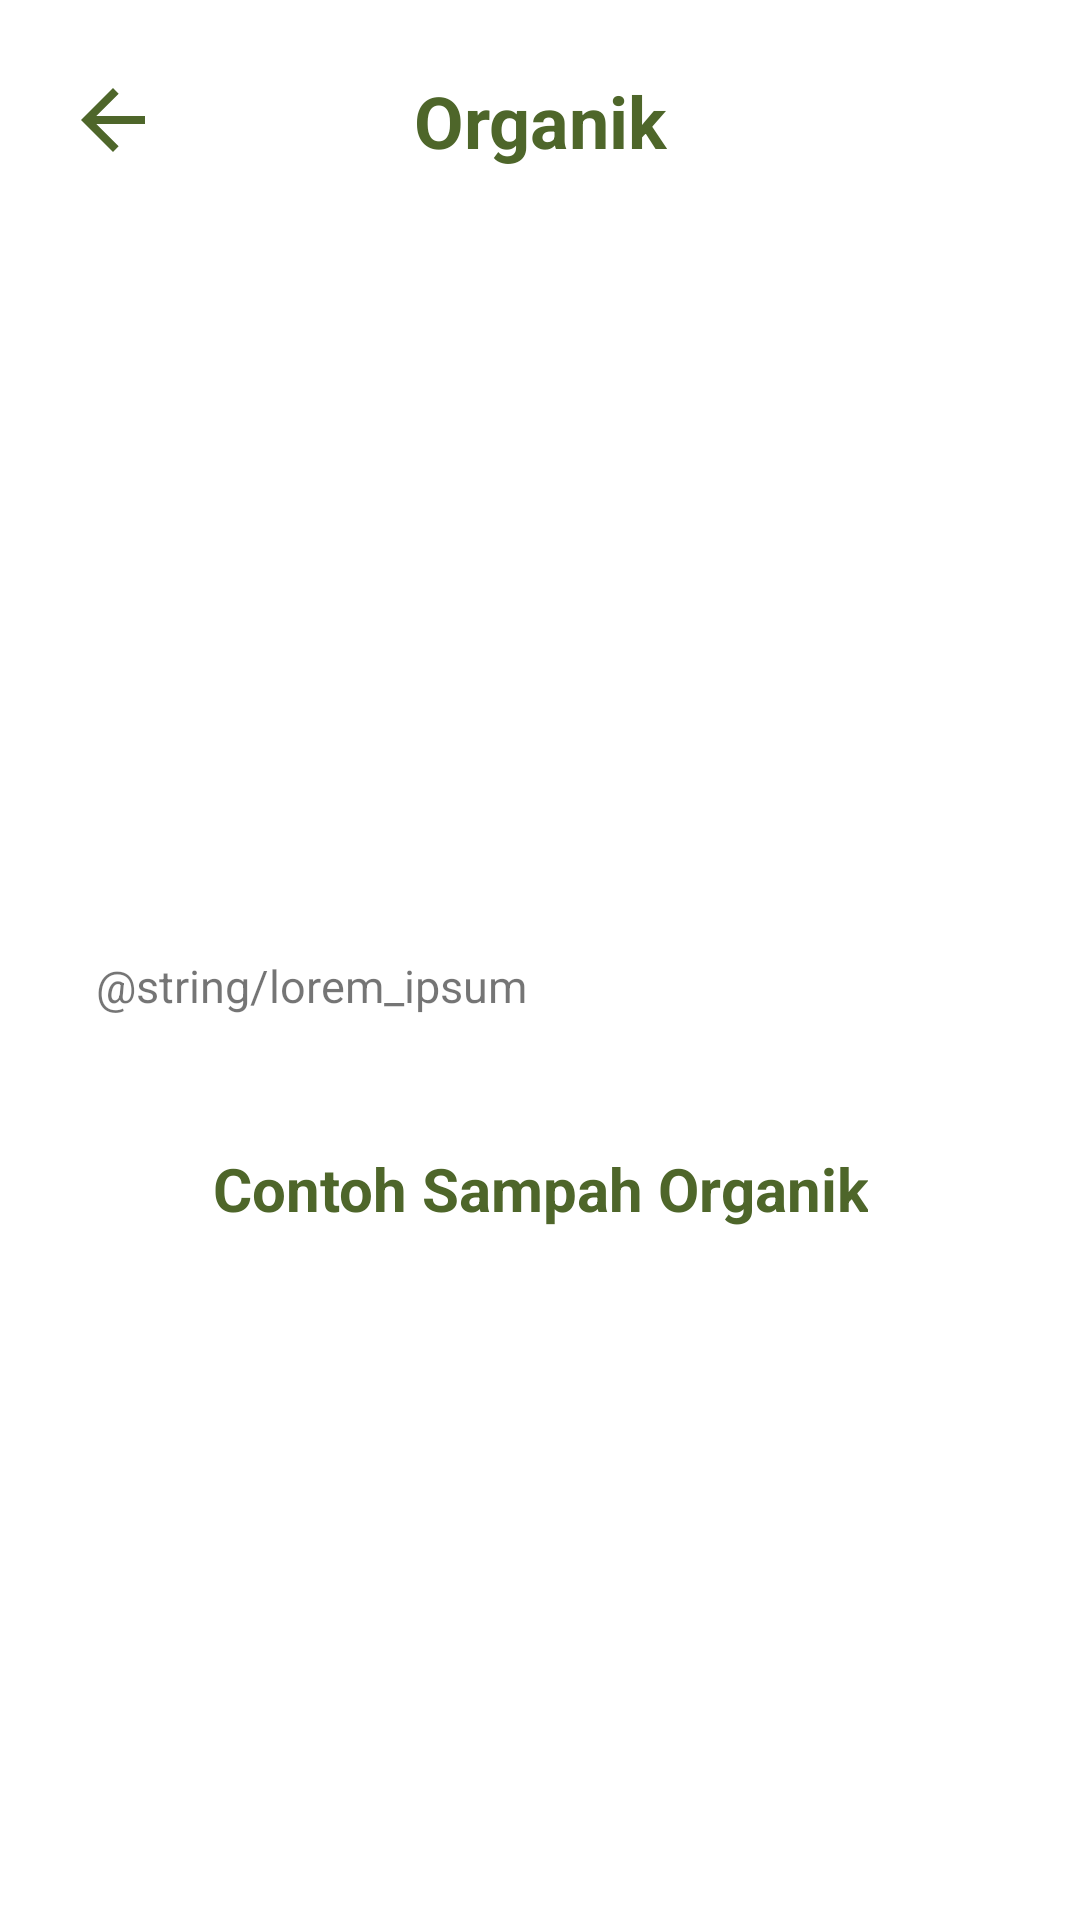

Where icons sit on this 1080px×1920px app screen, as (x1, y1, x2, y2):
arrow back: (81, 88, 145, 152)
